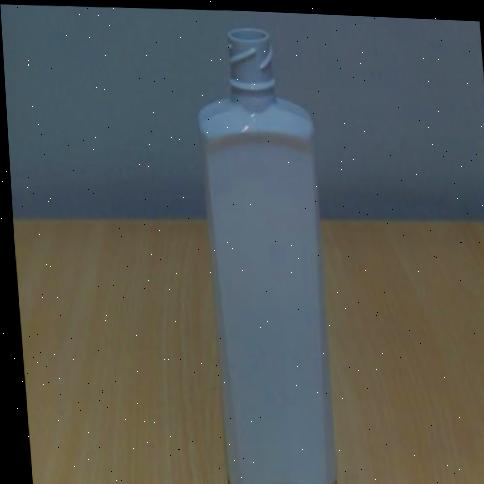bottle: (198, 28, 336, 484)
